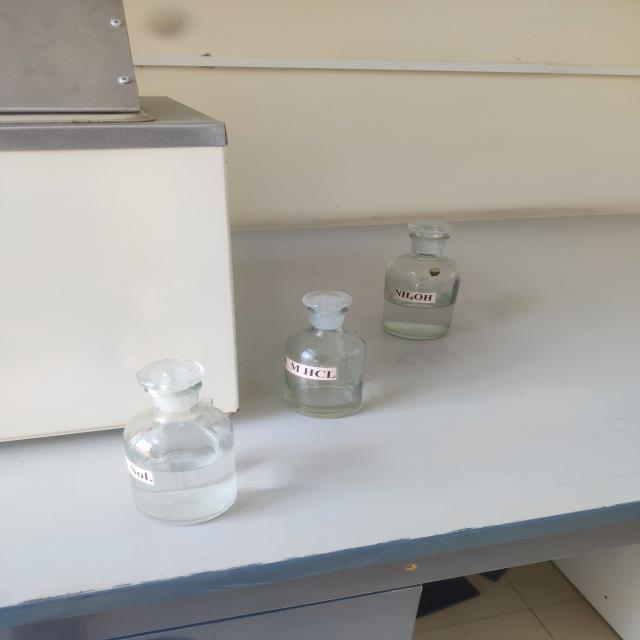Reagent_Bottle: (96, 342, 265, 534), (355, 184, 502, 356), (248, 267, 394, 426)
